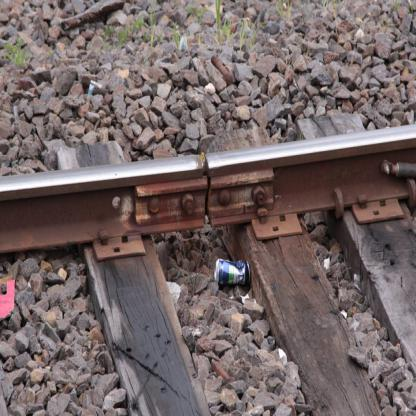Defective 2: (177, 141, 227, 245)
